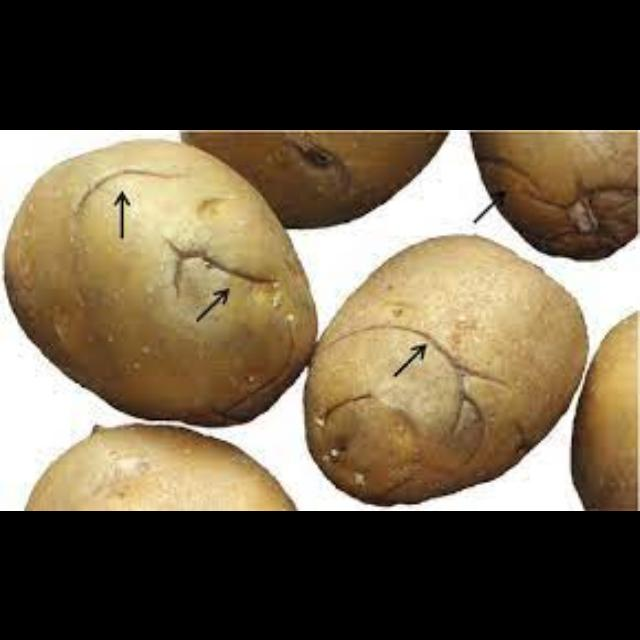Damaged potato: (3, 132, 324, 430), (309, 230, 585, 498), (179, 129, 471, 221), (468, 131, 640, 267), (474, 132, 640, 262)
